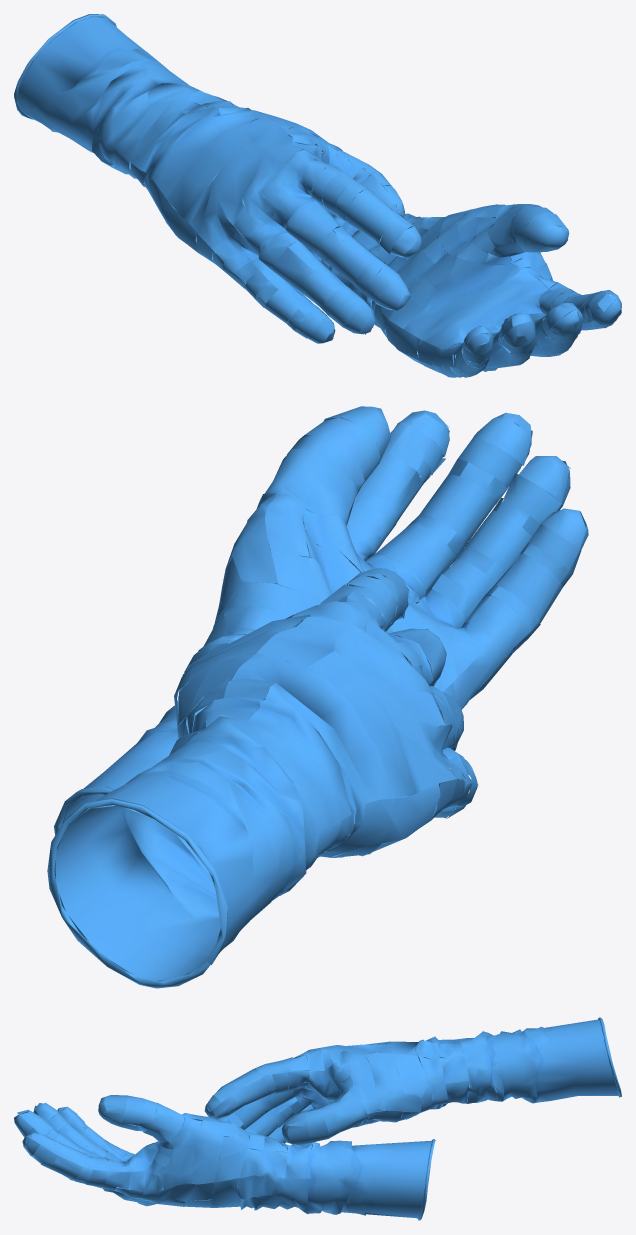
File: gant.glb
3 renders of one model, top to bottom at view 1: azimuth 30°, elevation 25°; view 2: azimuth 150°, elevation 25°; view 3: azimuth 270°, elevation 25°, orthographic. The views are drawn at different scales.
Visible parts, largest first — view 1: gant; view 2: gant; view 3: gant.
Boxes of the visible parts, x1,y1,x2,y2 form: gant: (14, 14, 621, 377); gant: (47, 406, 588, 988); gant: (14, 1017, 621, 1220).
Size of the model in its own units: 0.0975 by 0.0724 by 0.25.
Materials: 1 (1 with a texture image).
